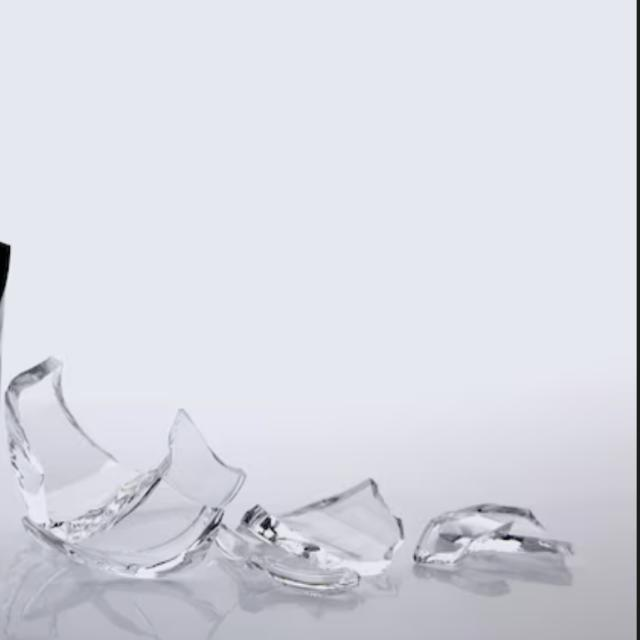PecahanKaca: (0, 237, 574, 596), (2, 354, 246, 578), (213, 475, 404, 594), (412, 501, 574, 575), (0, 227, 11, 634)
